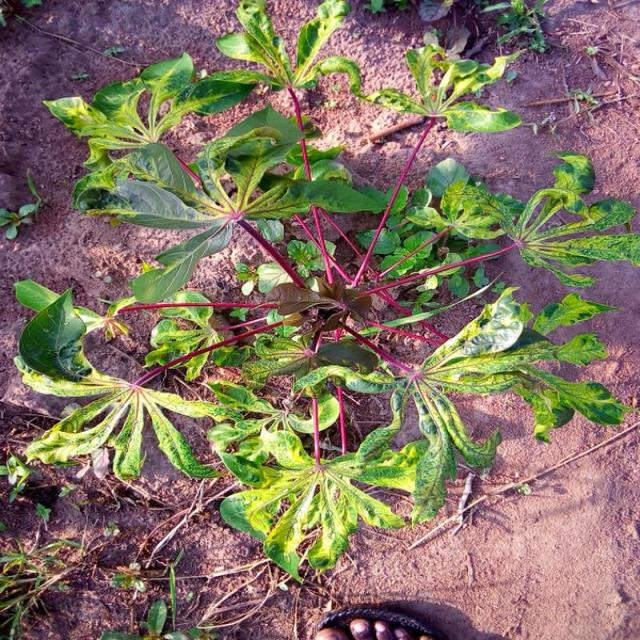cassava leaf: (12, 2, 638, 584), (16, 279, 94, 382)
